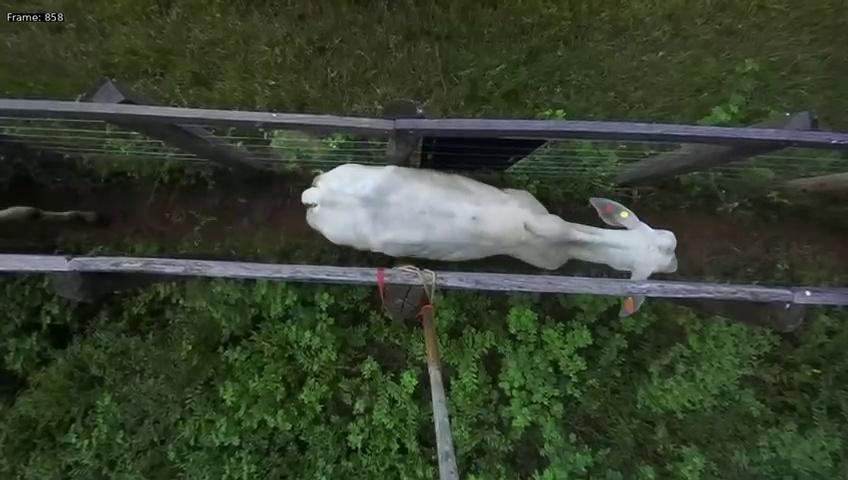cattle: (299, 142, 679, 278)
